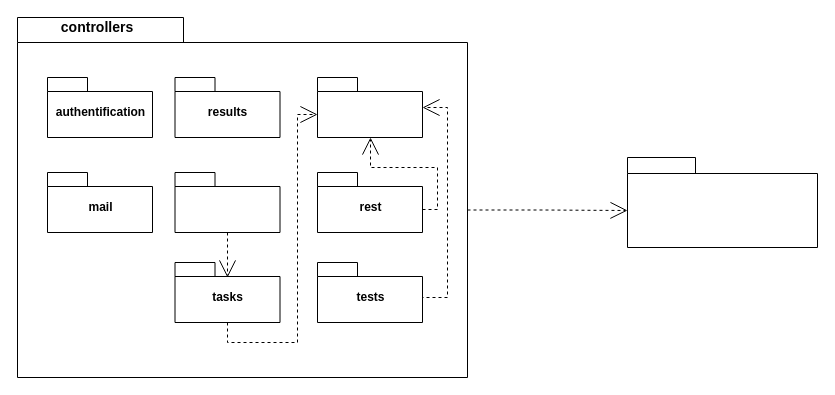
This 835x395 diagram has some shape labels left out. The shapes that lost their labels are listed below. From the top down, each one's box as (x1, y1, x2, y2) in pixels, then its label:
(316, 76, 422, 138): connections
(174, 172, 280, 232): packeges
(626, 156, 818, 248): models
